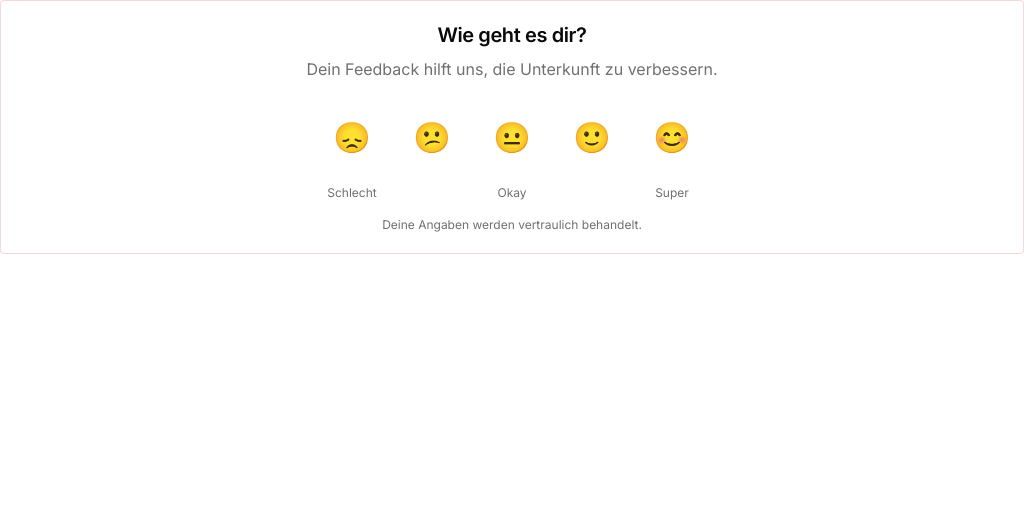
Test: SatisfactionRating › shows concerns field when rating 1 is selected
Click the button named "Sehr unzufrieden". click: {"x": 352, "y": 137}
box: [320, 105, 384, 169]
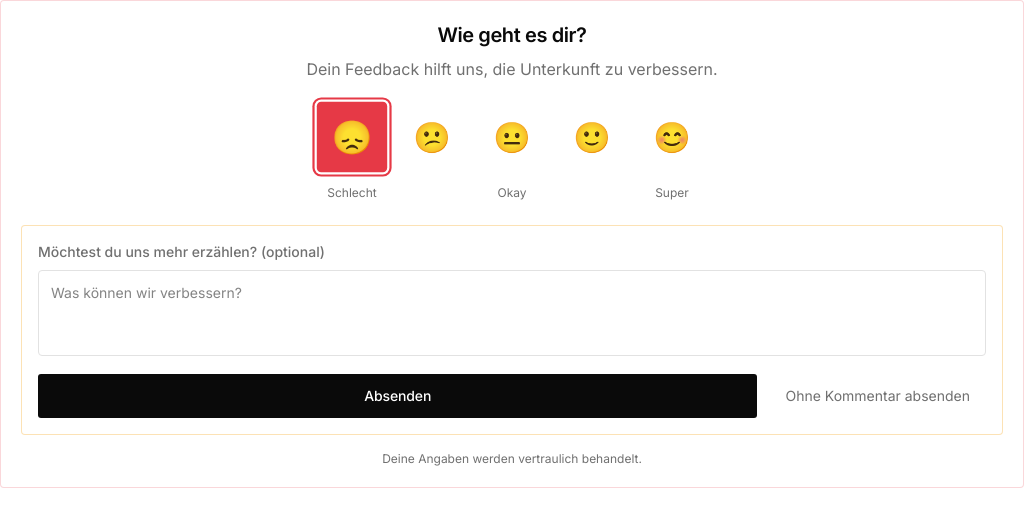
Result: the text "Möchtest du uns mehr erzählen?" is shown at [38, 243, 257, 260]
Result: the button "Absenden" is shown at [38, 374, 758, 418]
Result: the button "Ohne Kommentar absenden" is shown at [770, 374, 986, 418]
